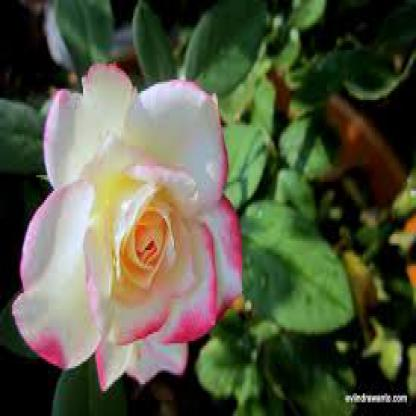Rose-Mawar: (10, 49, 246, 392)
